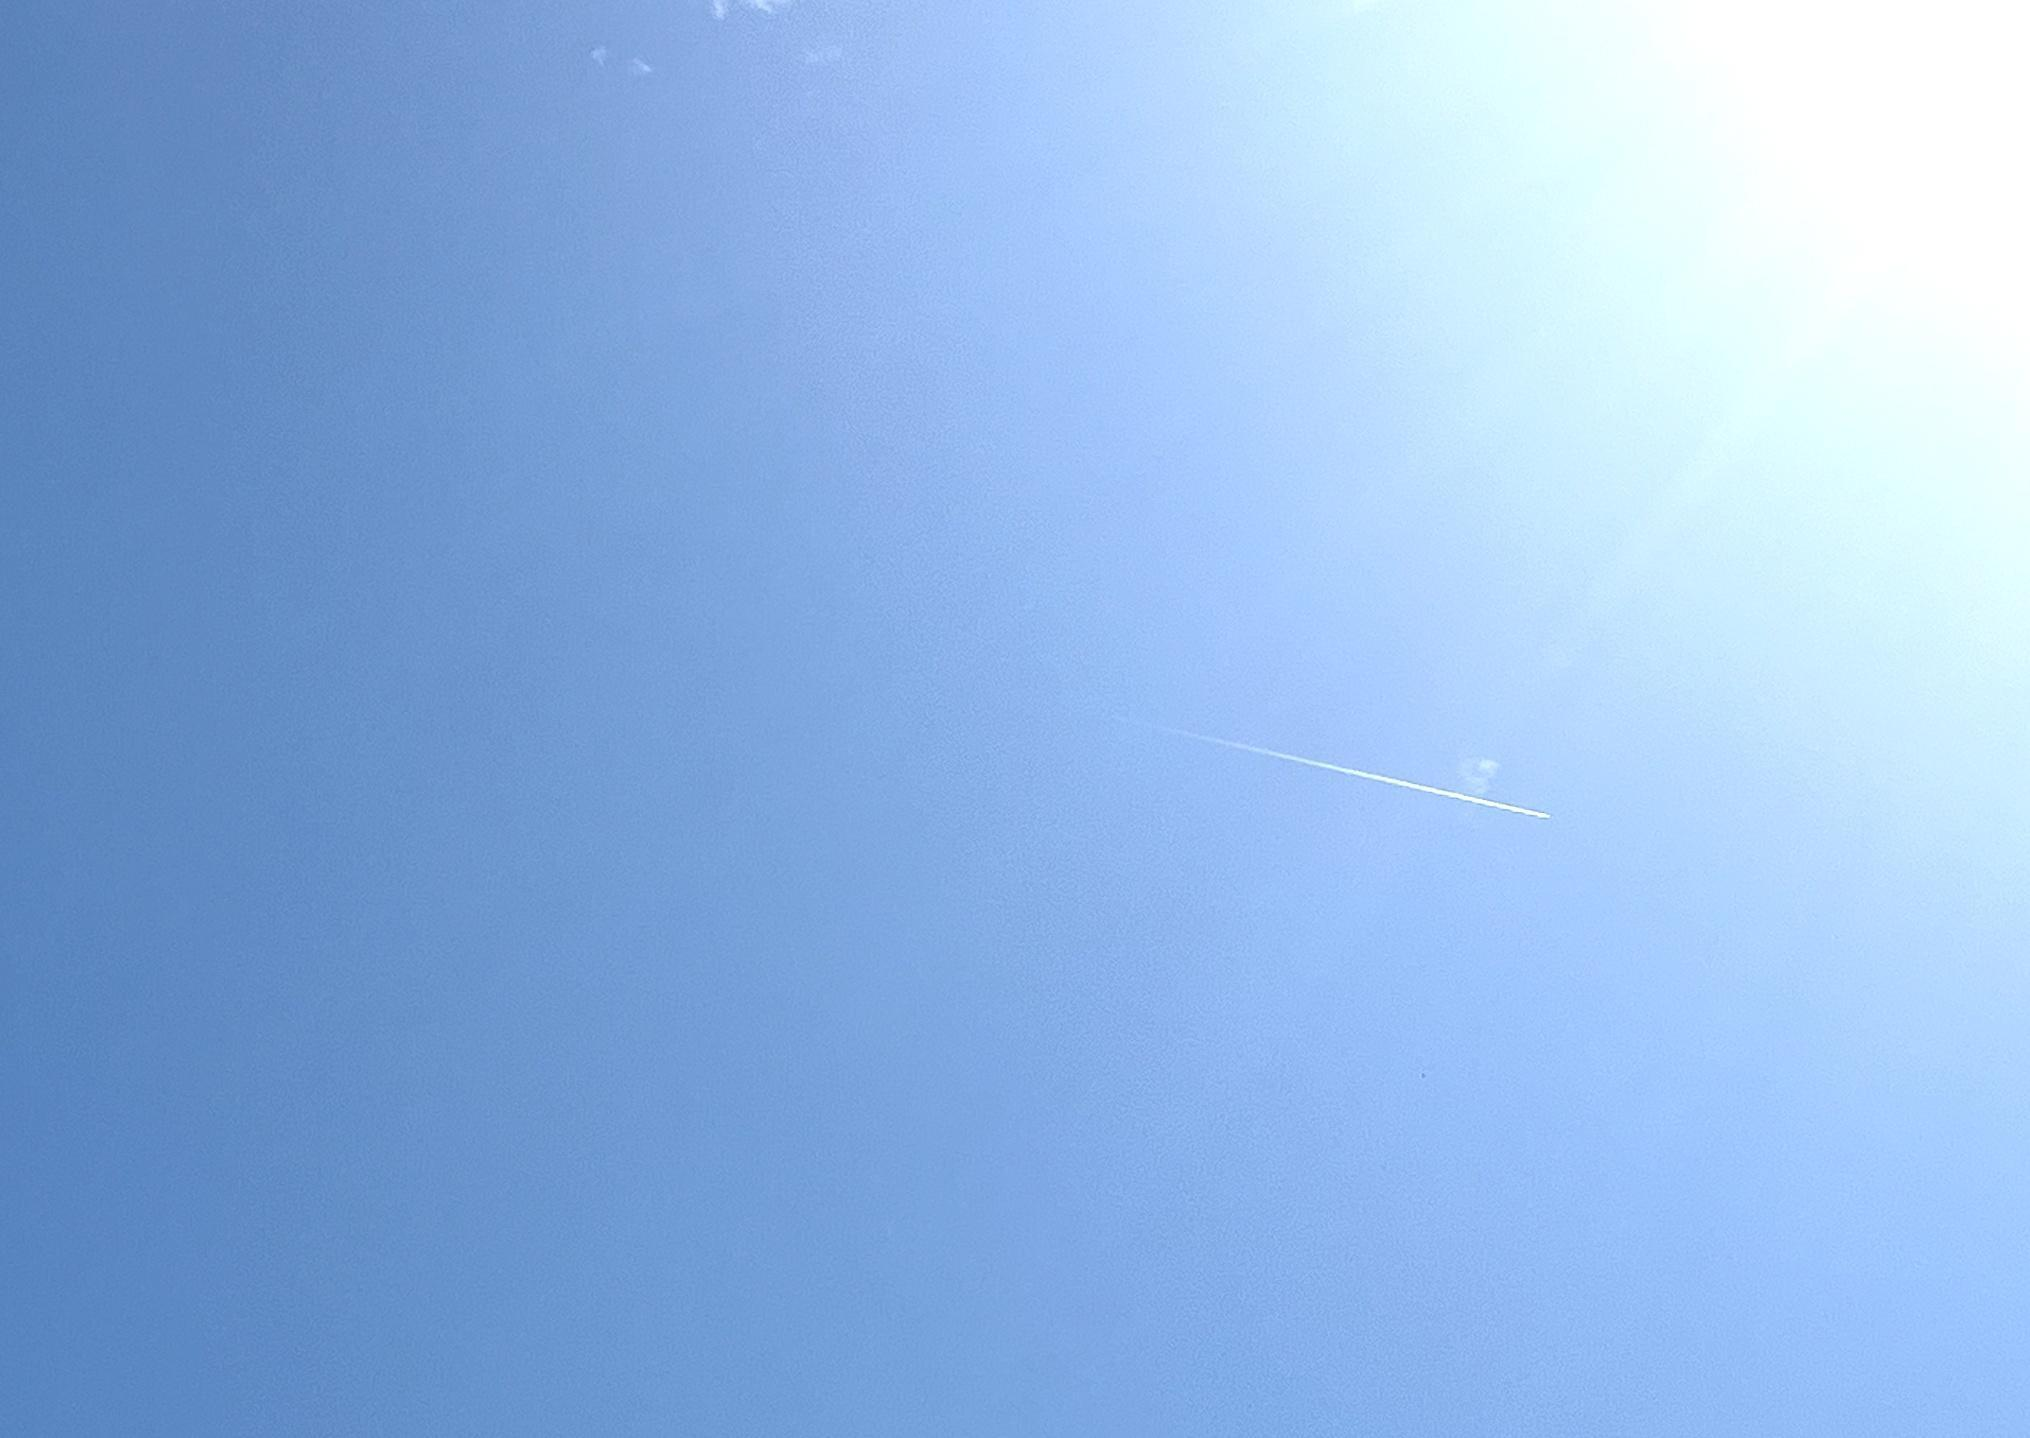Plane: (1164, 719, 1566, 831)
